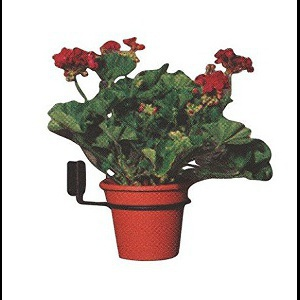flowerpot: (99, 175, 191, 260)
